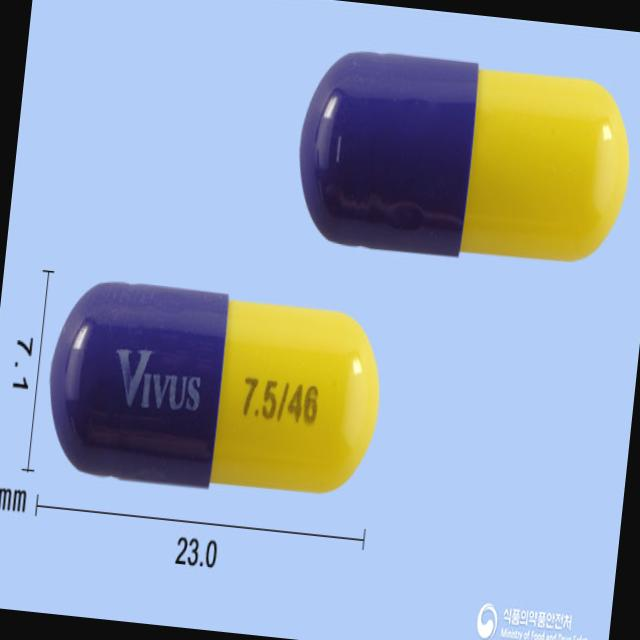Qsymia Cap-7-5mg: (39, 276, 390, 508)
